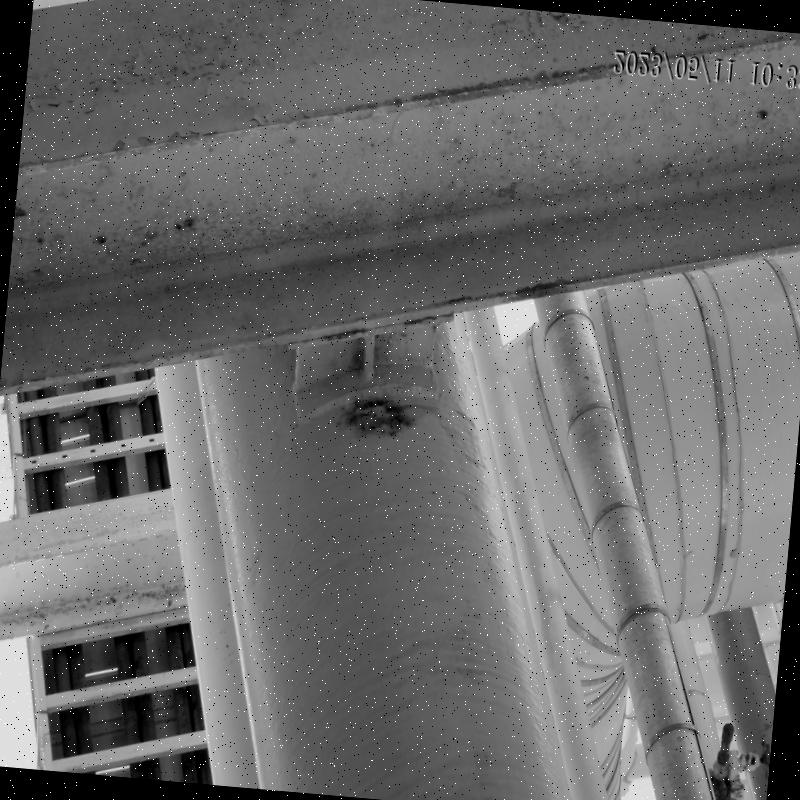corrosion: (344, 392, 405, 438)
